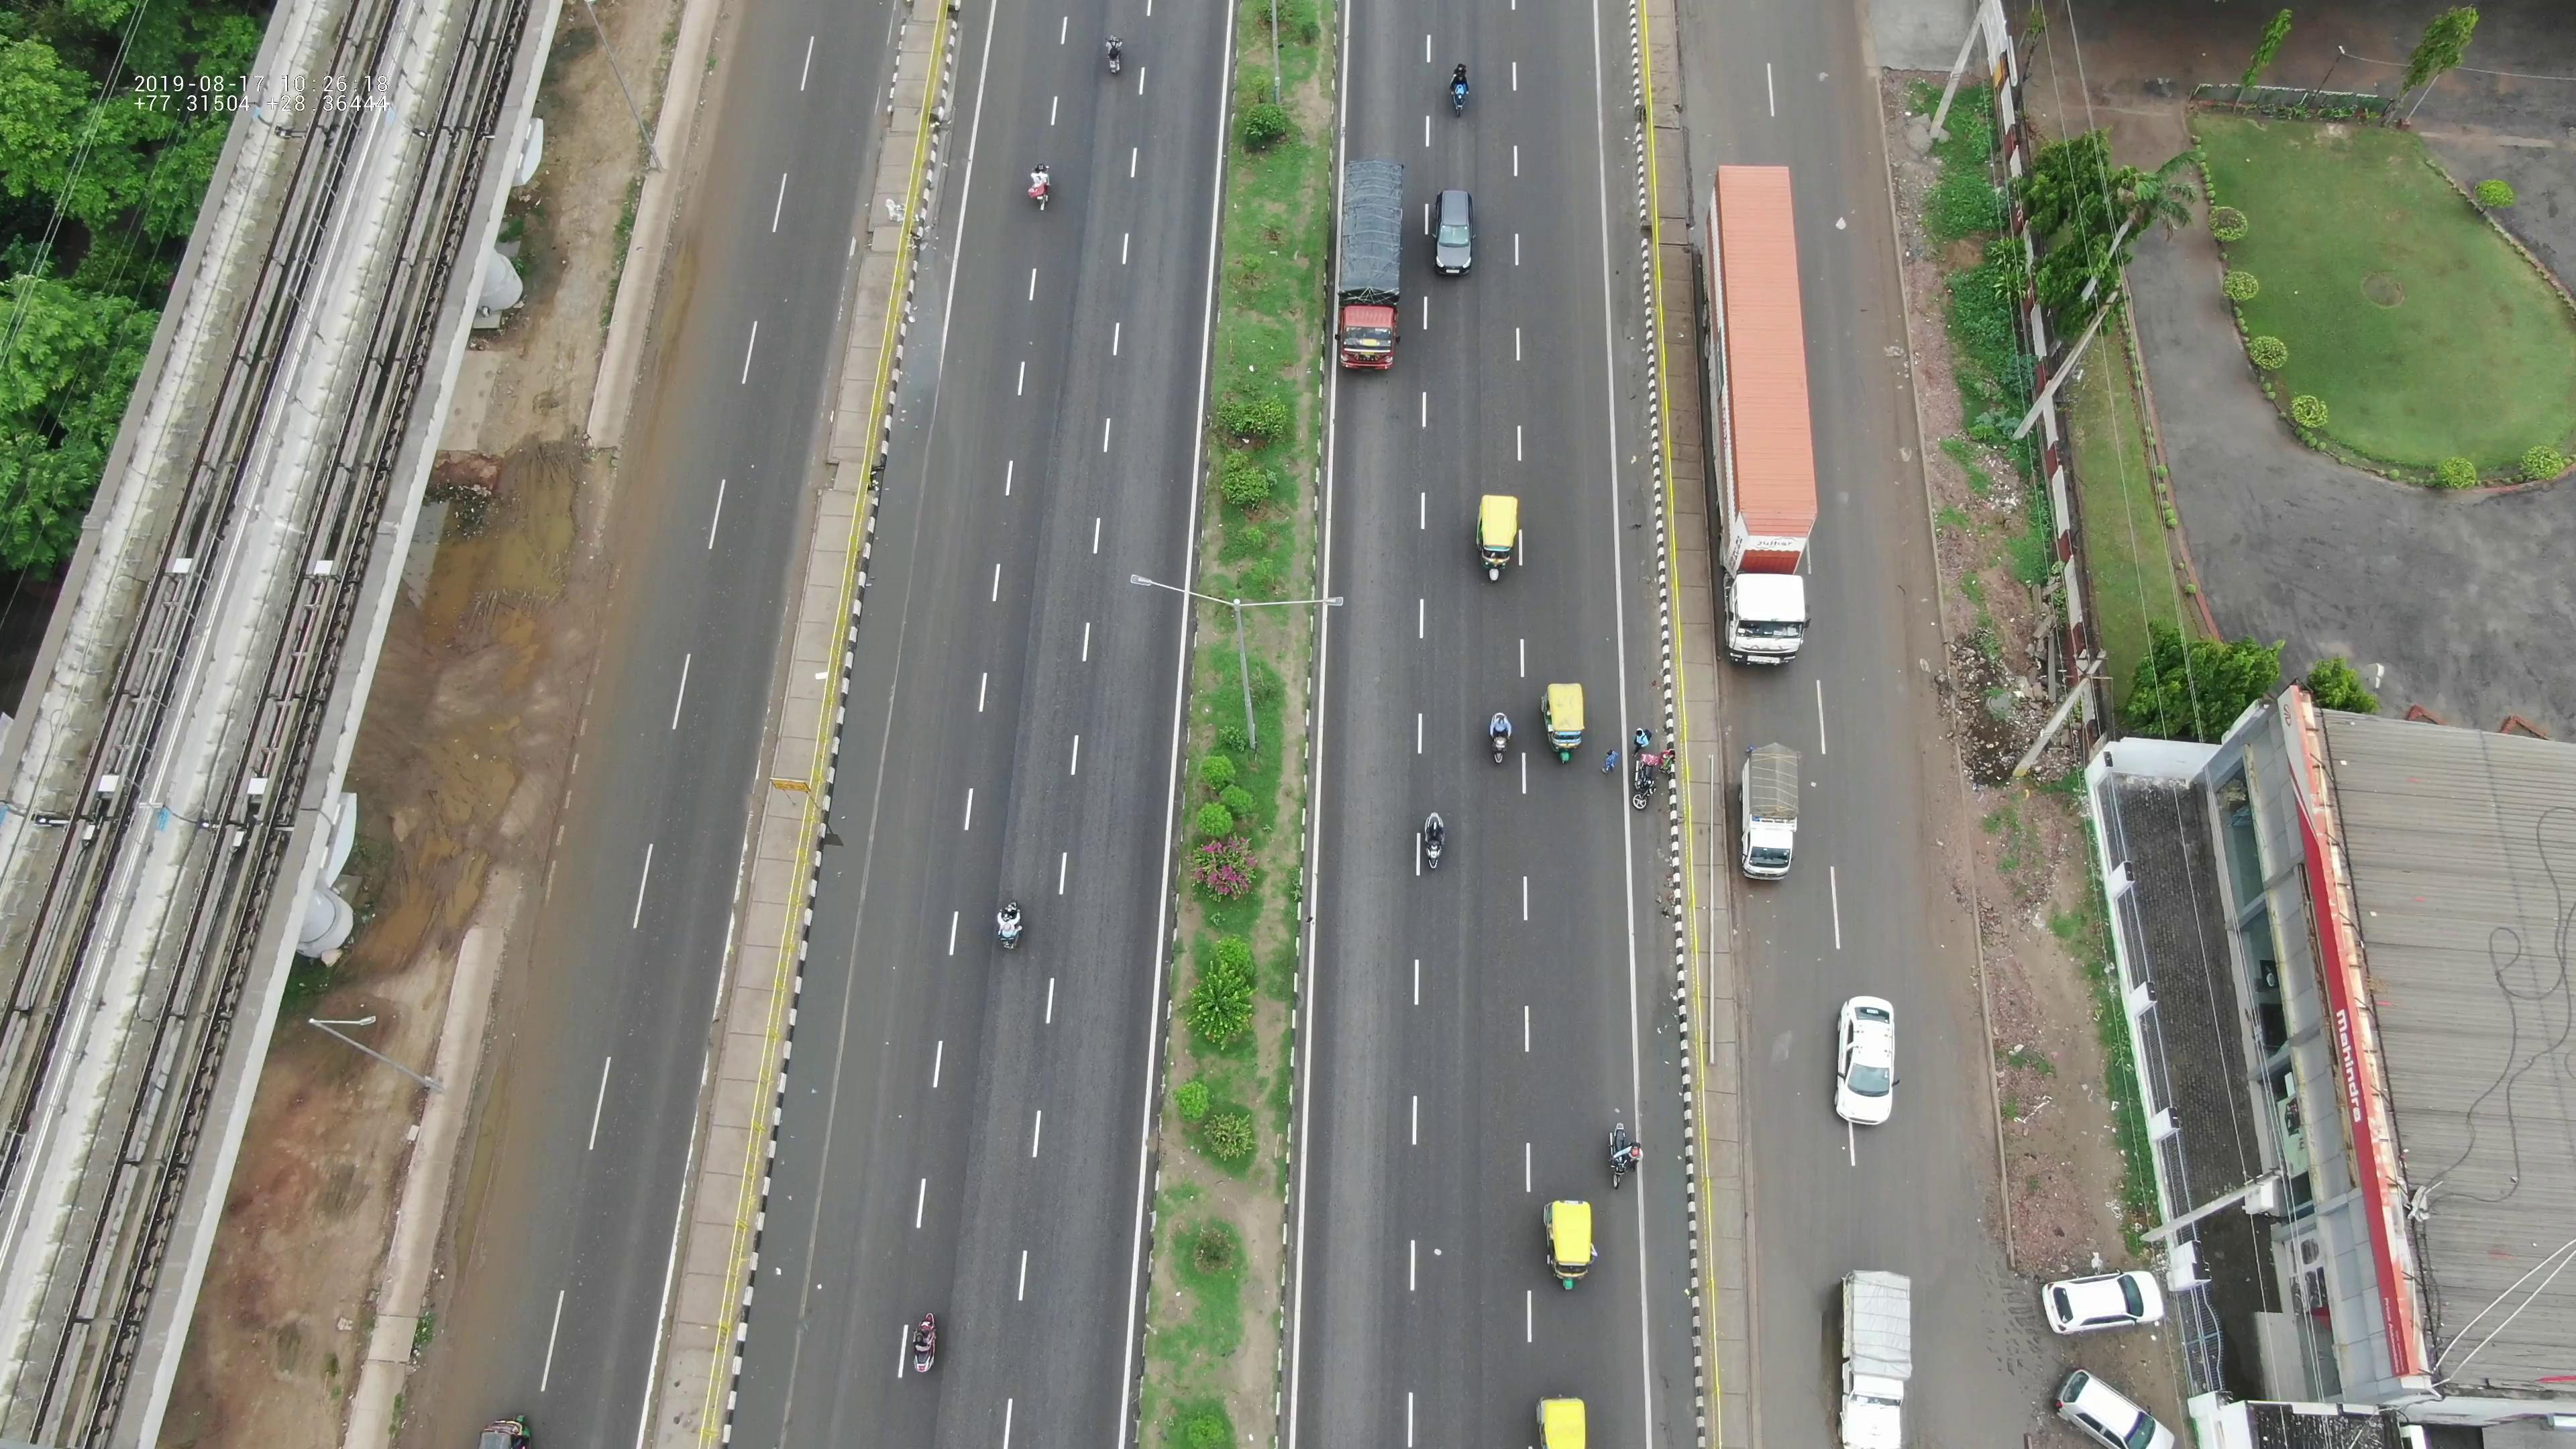Waterlogging: (430, 1065, 515, 1299), (632, 230, 708, 395), (883, 265, 950, 430)
